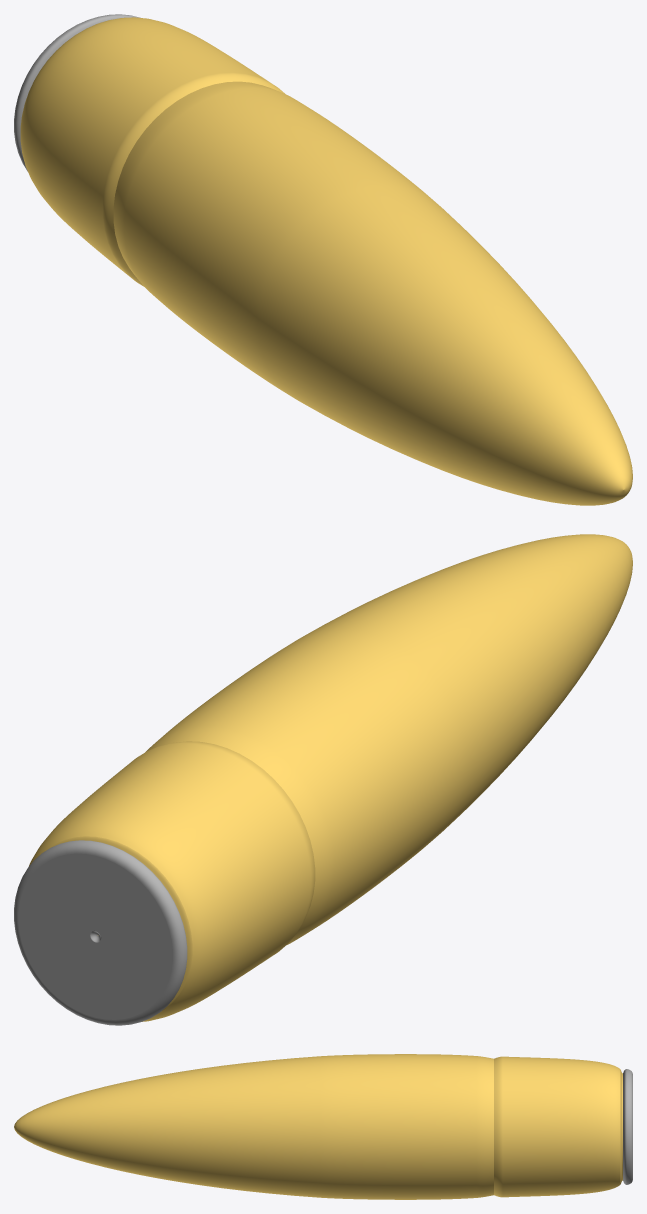
The model's file is bala_pistola.fbx.
The picture shows the model from 3 angles, top to bottom: view 1: azimuth 30°, elevation 25°; view 2: azimuth 150°, elevation 25°; view 3: azimuth 270°, elevation 25°; orthographic projection. The views are drawn at different scales.
Parts seen in each view (by area): view 1: bala_pistola; view 2: bala_pistola; view 3: bala_pistola.
Boxes of the visible parts, box(x1,y1,x2,y2) form: bala_pistola: box(14, 14, 632, 505); bala_pistola: box(14, 534, 632, 1025); bala_pistola: box(14, 1054, 632, 1199).
Bounding box in the file's own units: 1.27 × 1.27 × 5.4.
